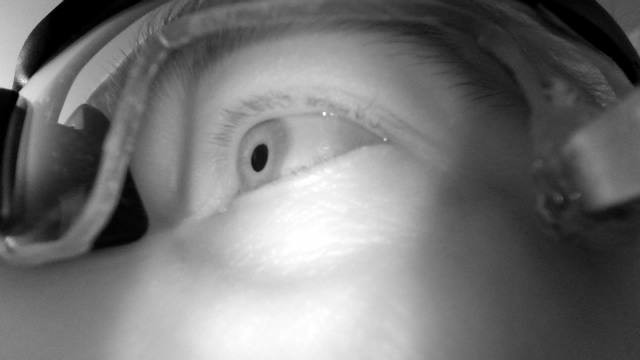pupil: (250, 143, 269, 173)
